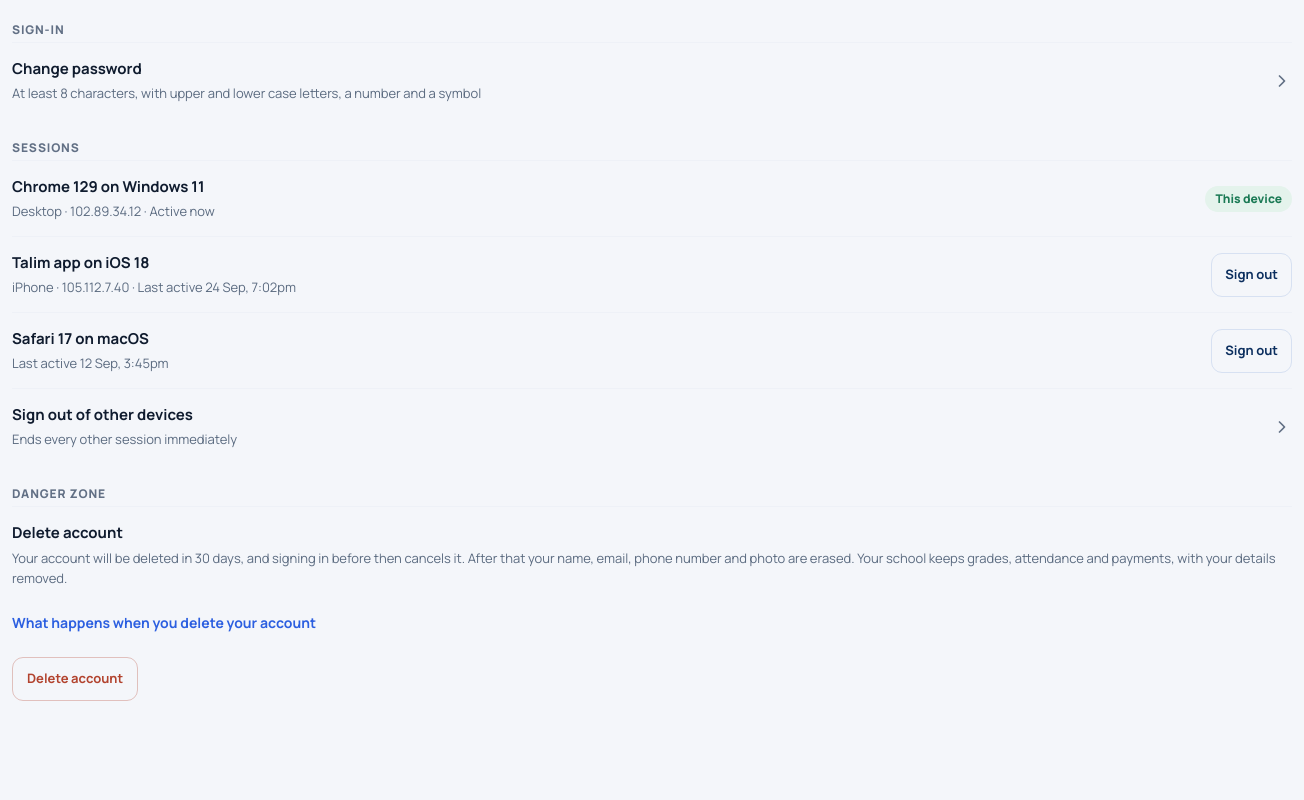
it: Security → Sessions › signs one device out, toasts, and reloads the list
The width and height of the screenshot is (1304, 800).
Click the button with aria-label "Sign out of Safari 17 on macOS": (1252, 350) top-left (1211, 328), bottom-right (1292, 372)
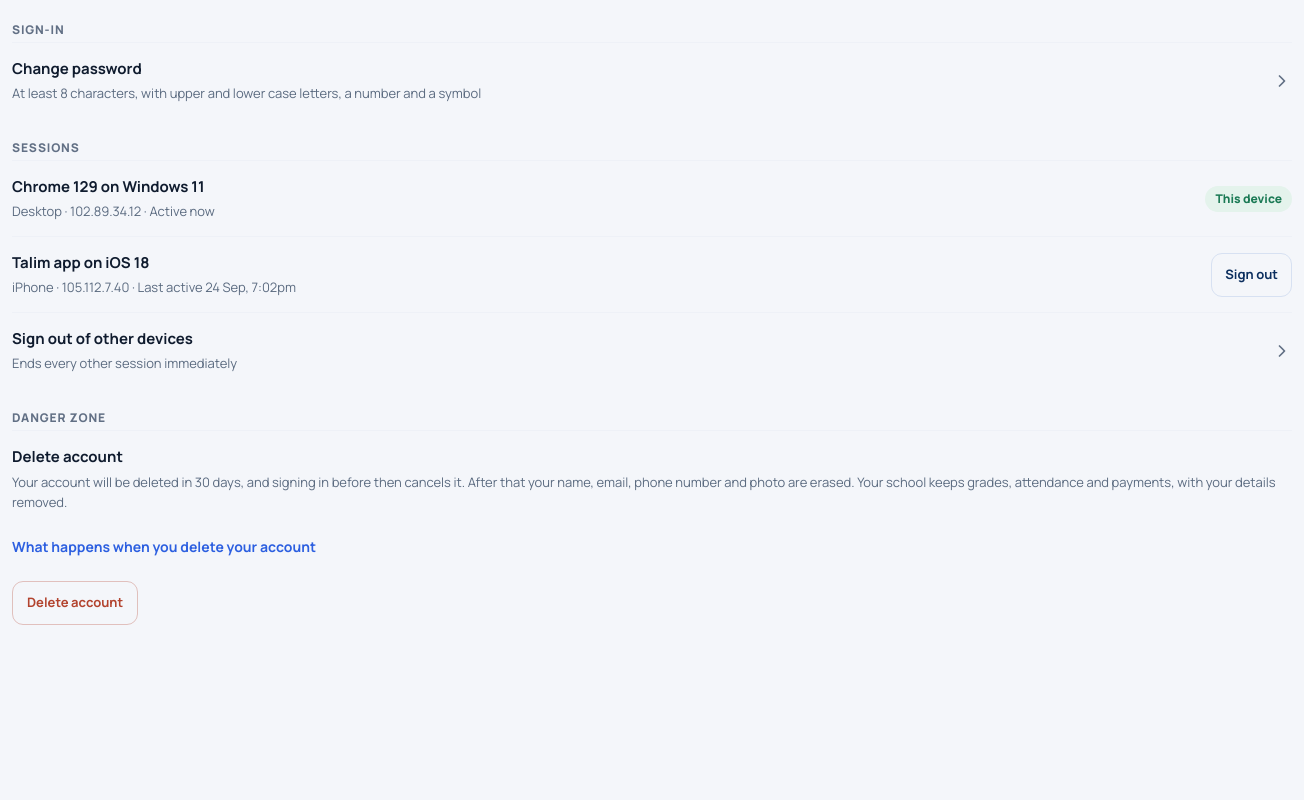
Expected: the text "Safari 17 on macOS" is gone
